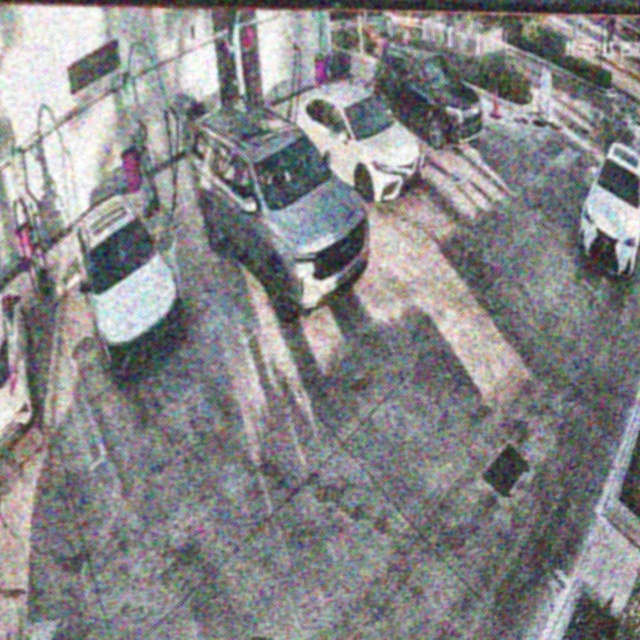Car: (191, 105, 368, 323), (72, 194, 184, 382), (287, 86, 425, 203)
